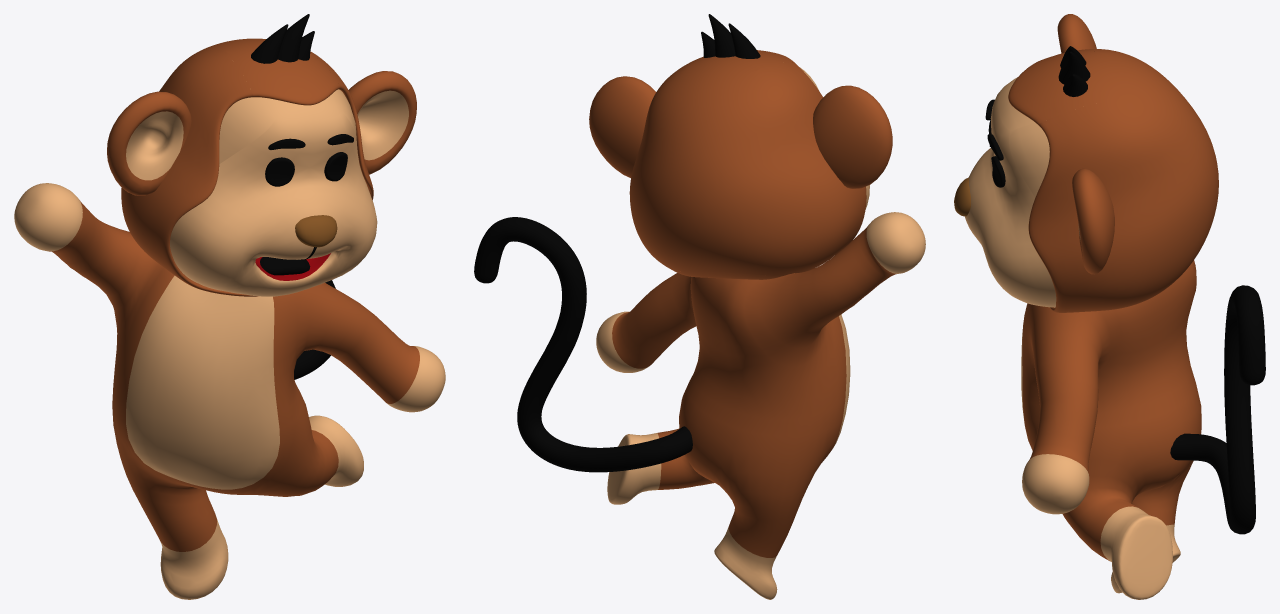
File: monkey.glb
3 views of the same model, side by side, from view 1: azimuth 30°, elevation 25°; view 2: azimuth 150°, elevation 25°; view 3: azimuth 270°, elevation 25° (orthographic). The views are drawn at different scales.
Parts seen in each view (by area): view 1: Vert.167; view 2: Vert.167; view 3: Vert.167.
Part boxes in pixels (x1=…): Vert.167: x1=14, y1=14, x2=445, y2=599; Vert.167: x1=474, y1=14, x2=925, y2=599; Vert.167: x1=954, y1=14, x2=1265, y2=599.
Size of the model in its own units: 0.7536 by 1 by 0.4841.
